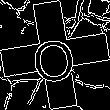O_N: (29, 26, 81, 84)
